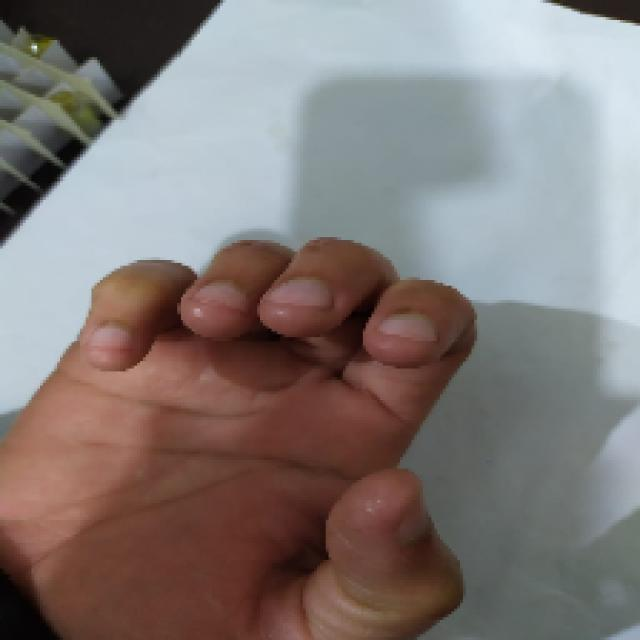Nail: (398, 487, 432, 545), (265, 278, 331, 307), (379, 314, 438, 341), (194, 281, 246, 309), (91, 325, 131, 348)
